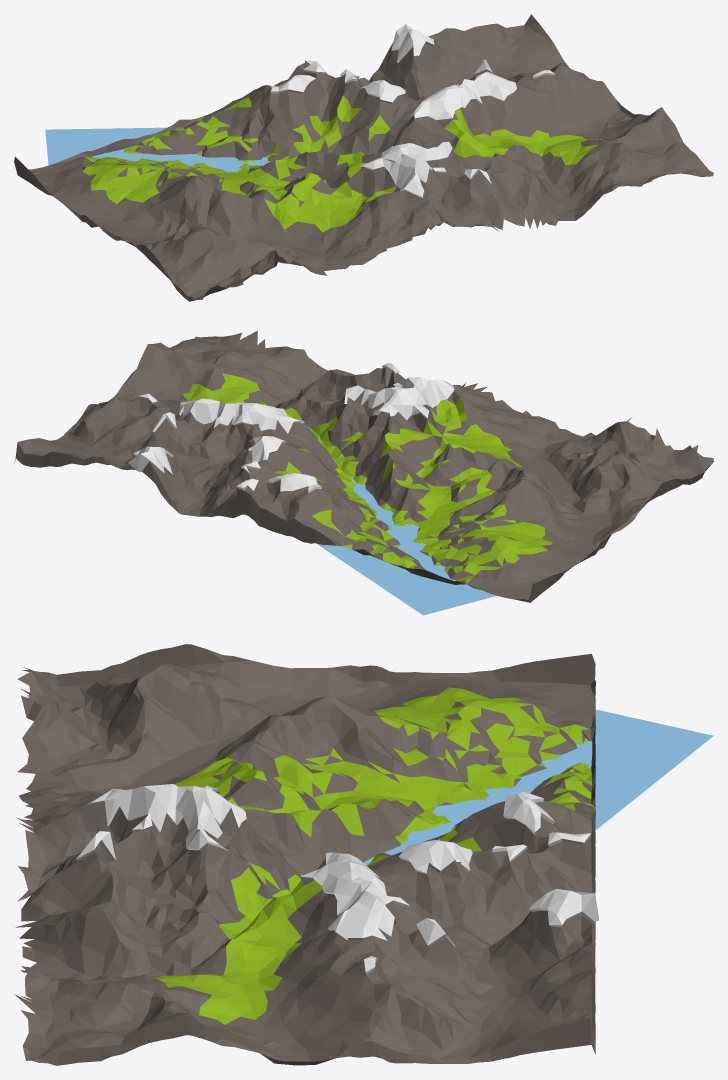
Rendered from SM_Terrain.glb.
The picture shows the model from 3 angles, top to bottom: view 1: azimuth 30°, elevation 25°; view 2: azimuth 150°, elevation 25°; view 3: azimuth 270°, elevation 25°; orthographic projection. The views are drawn at different scales.
Parts seen in each view (by area): view 1: SM_Terrain, SM_Snow, SM_River; view 2: SM_Terrain, SM_Snow, SM_River; view 3: SM_Terrain, SM_Snow, SM_River.
Boxes of the visible parts, x1,y1,x2,y2 form: SM_Terrain: (14, 14, 713, 301); SM_Snow: (270, 24, 554, 198); SM_River: (45, 127, 306, 172); SM_Terrain: (14, 330, 713, 602); SM_Snow: (128, 363, 454, 492); SM_River: (316, 477, 505, 615); SM_Terrain: (14, 644, 595, 1065); SM_Snow: (76, 784, 598, 974); SM_River: (363, 709, 713, 865).
Bounding box in the file's own units: 100 × 11.43 × 75.65.
